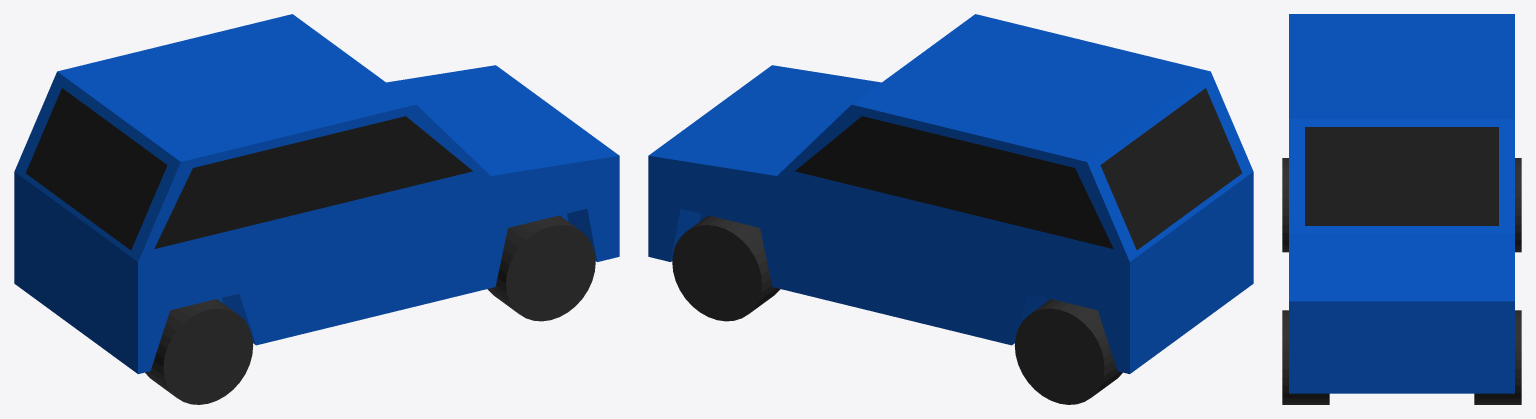
File: carblue.glb
3 renders of one model, left to right at view 1: azimuth 30°, elevation 25°; view 2: azimuth 150°, elevation 25°; view 3: azimuth 270°, elevation 25°, orthographic. The views are drawn at different scales.
Visible parts, largest first — view 1: car_blue; view 2: car_blue; view 3: car_blue.
Boxes of the visible parts, x1,y1,x2,y2 form: car_blue: (14,14,619,404); car_blue: (648,14,1253,404); car_blue: (1282,14,1521,404).
Size of the model in its own units: 4.49 by 2.18 by 2.12.
